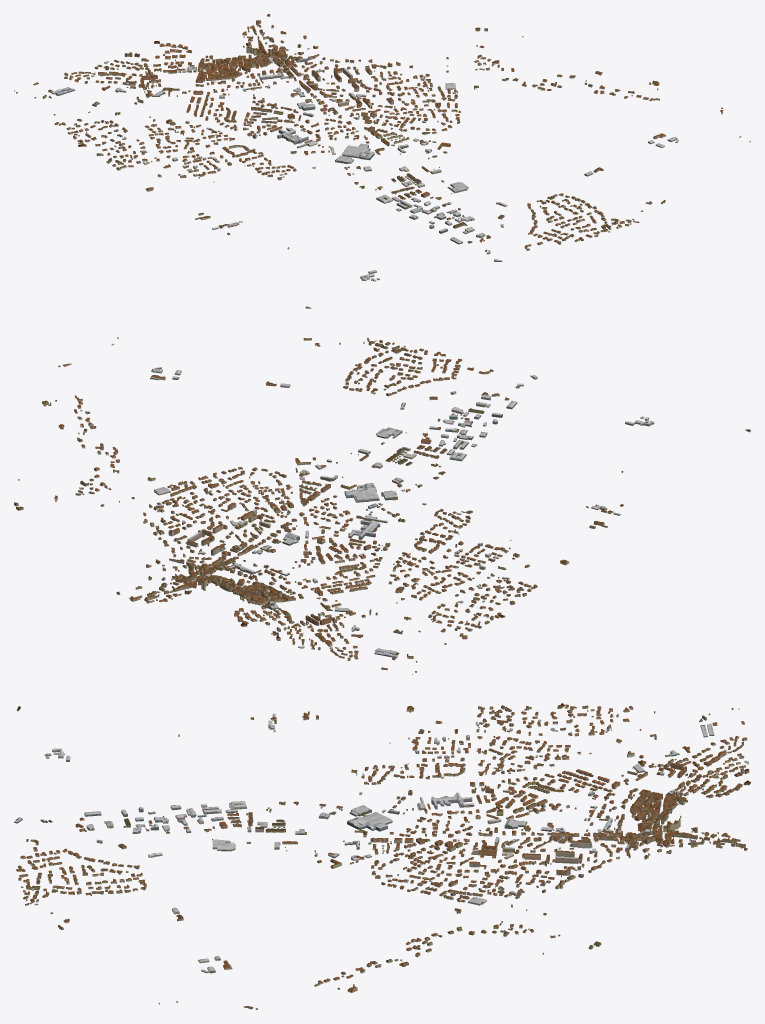
File: batiments.glb
The picture shows the model from 3 angles, top to bottom: view 1: azimuth 30°, elevation 25°; view 2: azimuth 150°, elevation 25°; view 3: azimuth 270°, elevation 25°; orthographic projection. The views are drawn at different scales.
Visible parts, largest first — view 1: tuiles_1_0, facades_1_0, facades_1_1, facades_0_1, tuiles_1_1, facades_0_0, facades_2_1, tuiles_0_1, tuiles_2_1, tuiles_0_0, facades_1_2, facades_2_3 (+5 smaller); view 2: facades_1_0, facades_1_1, tuiles_1_0, facades_0_1, facades_2_1, facades_0_0, tuiles_1_1, tuiles_0_1, tuiles_2_1, tuiles_0_0, facades_1_2, toit_plat_1_2 (+6 smaller); view 3: facades_1_0, facades_1_1, tuiles_1_0, tuiles_1_1, facades_2_1, facades_0_1, facades_0_0, tuiles_0_1, tuiles_2_1, tuiles_0_0, facades_1_2, toit_plat_1_2 (+6 smaller).
Boxes of the visible parts, box(x1,y1,x2,y2) form: tuiles_1_0: box(148, 20, 337, 110); facades_1_0: box(148, 21, 334, 111); facades_1_1: box(218, 74, 407, 155); facades_0_1: box(78, 112, 280, 191); tuiles_1_1: box(219, 74, 406, 154); facades_0_0: box(14, 53, 210, 144); facades_2_1: box(348, 56, 518, 130); tuiles_0_1: box(78, 111, 279, 190); tuiles_2_1: box(348, 54, 517, 129); tuiles_0_0: box(16, 52, 210, 143); facades_1_2: box(287, 138, 468, 211); facades_2_3: box(527, 169, 665, 241); facades_1_0: box(129, 541, 348, 626); facades_1_1: box(206, 484, 405, 576); tuiles_1_0: box(129, 539, 347, 625); facades_0_1: box(355, 518, 569, 617); facades_2_1: box(75, 465, 282, 537); facades_0_0: box(271, 579, 499, 674); tuiles_1_1: box(205, 484, 404, 574); tuiles_0_1: box(354, 517, 567, 616); tuiles_2_1: box(75, 463, 281, 535); tuiles_0_0: box(271, 578, 499, 671); facades_1_2: box(299, 431, 477, 516); toit_plat_1_2: box(299, 427, 476, 504); facades_1_0: box(562, 778, 750, 857); facades_1_1: box(382, 782, 568, 859); tuiles_1_0: box(562, 778, 750, 855); tuiles_1_1: box(386, 781, 569, 858); facades_2_1: box(381, 854, 566, 934); facades_0_1: box(381, 704, 565, 784); facades_0_0: box(561, 705, 749, 783); tuiles_0_1: box(381, 703, 565, 783); tuiles_2_1: box(381, 853, 566, 933); tuiles_0_0: box(562, 704, 748, 782); facades_1_2: box(197, 782, 392, 860); toit_plat_1_2: box(198, 792, 392, 859).
Bounding box in the file's own units: 2235 × 55.97 × 2251.
Materials: 5 (3 with a texture image).
